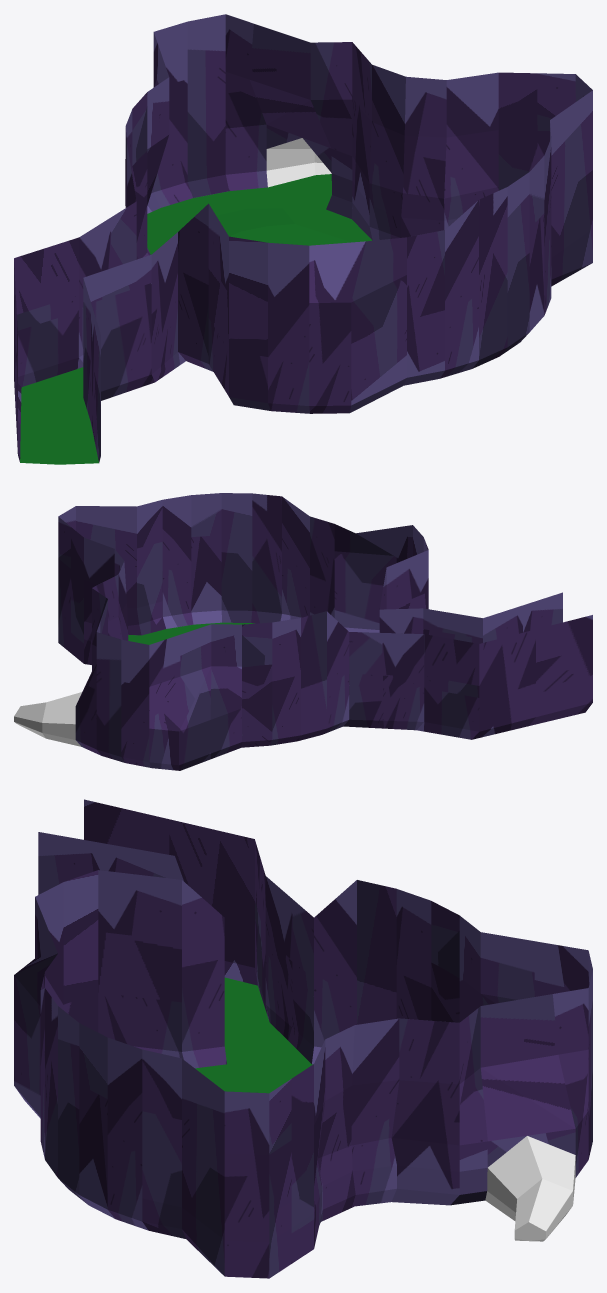
The model's file is Batalla Base.fbx.
3 renders of one model, top to bottom at view 1: azimuth 30°, elevation 25°; view 2: azimuth 150°, elevation 25°; view 3: azimuth 270°, elevation 25°, orthographic. The views are drawn at different scales.
Visible parts, largest first — view 1: Batalla Base; view 2: Batalla Base; view 3: Batalla Base.
Part boxes in pixels (x1,y1,x2,y2): Batalla Base: [14, 14, 592, 464]; Batalla Base: [14, 493, 592, 770]; Batalla Base: [14, 799, 592, 1278].
Size of the model in its own units: 119771 by 86875 by 30956.
3 materials, 1 textured.
